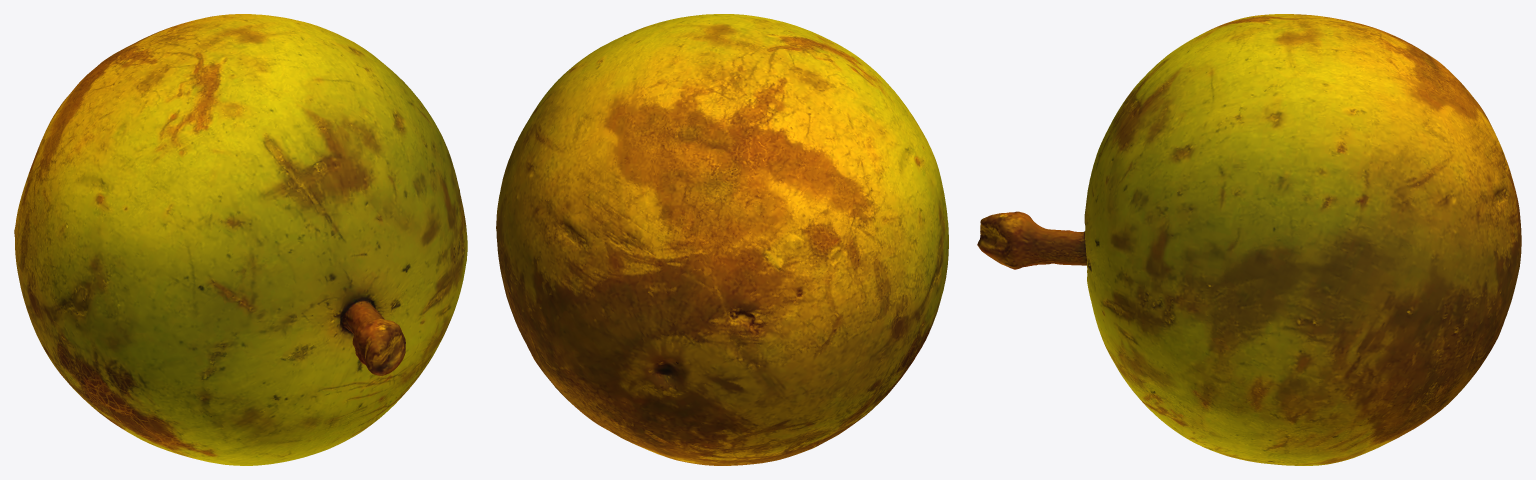
3 views of the same model, side by side, from view 1: azimuth 30°, elevation 25°; view 2: azimuth 150°, elevation 25°; view 3: azimuth 270°, elevation 25° (orthographic).
Visible parts, largest first — view 1: object_0; view 2: object_0; view 3: object_0.
Boxes of the visible parts, x1=… form: object_0: x1=14, y1=14, x2=467, y2=465; object_0: x1=496, y1=14, x2=948, y2=465; object_0: x1=977, y1=14, x2=1521, y2=465.
Size of the model in its own units: 9.14 by 9.1 by 10.97.
Materials: 1 (1 with a texture image).
